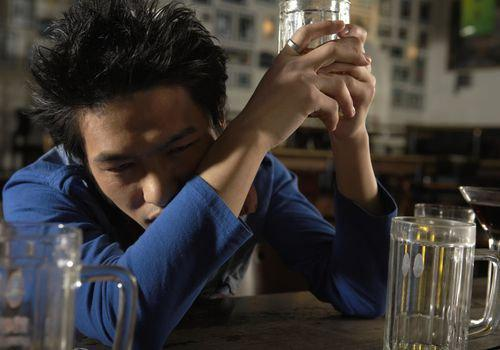Drunk: (86, 86, 208, 228)
